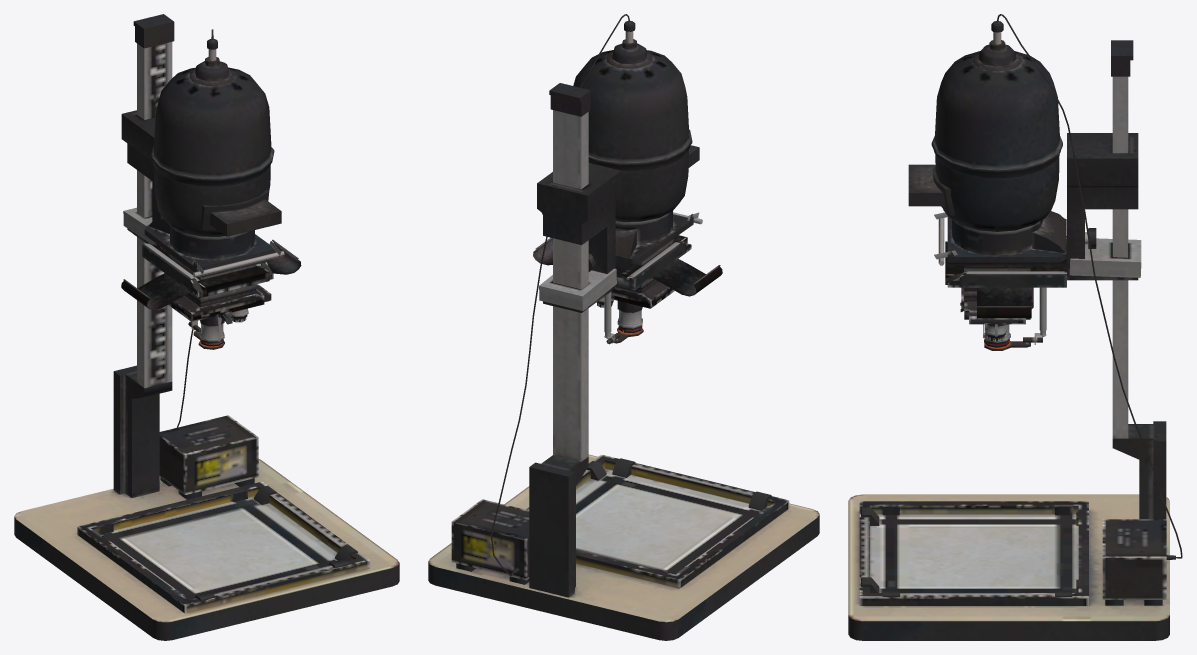
Rendered from 003_filmenlarger01a.fbx.
The picture shows the model from 3 angles, left to right: view 1: azimuth 30°, elevation 25°; view 2: azimuth 150°, elevation 25°; view 3: azimuth 270°, elevation 25°; orthographic projection. The views are drawn at different scales.
Visible parts, largest first — view 1: LOD_1_Group_0_Sub_1__sm32_003_FilmEnlarger01A_A_Mat, LOD_1_Group_22_Sub_1__sm32_003_FilmEnlarger01A_A_Mat, LOD_1_Group_21_Sub_1__sm32_003_FilmEnlarger01A_A_Mat, LOD_1_Group_13_Sub_1__sm32_003_FilmEnlarger01A_A_Mat, LOD_1_Group_1_Sub_1__sm32_003_FilmEnlarger01A_A_Mat, LOD_1_Group_26_Sub_1__sm32_003_FilmEnlarger01A_A_Mat, LOD_1_Group_14_Sub_1__sm32_003_FilmEnlarger01A_A_Mat, LOD_1_Group_27_Sub_1__sm32_003_FilmEnlarger01A_A_Mat, LOD_1_Group_11_Sub_1__sm32_003_FilmEnlarger01A_A_Mat, LOD_1_Group_16_Sub_1__sm32_003_FilmEnlarger01A_A_Mat, LOD_1_Group_28_Sub_1__sm32_003_FilmEnlarger01A_A_Mat, LOD_1_Group_2_Sub_1__sm32_003_FilmEnlarger01A_A_Mat (+4 smaller); view 2: LOD_1_Group_0_Sub_1__sm32_003_FilmEnlarger01A_A_Mat, LOD_1_Group_21_Sub_1__sm32_003_FilmEnlarger01A_A_Mat, LOD_1_Group_22_Sub_1__sm32_003_FilmEnlarger01A_A_Mat, LOD_1_Group_11_Sub_1__sm32_003_FilmEnlarger01A_A_Mat, LOD_1_Group_13_Sub_1__sm32_003_FilmEnlarger01A_A_Mat, LOD_1_Group_1_Sub_1__sm32_003_FilmEnlarger01A_A_Mat, LOD_1_Group_27_Sub_1__sm32_003_FilmEnlarger01A_A_Mat, LOD_1_Group_10_Sub_1__sm32_003_FilmEnlarger01A_A_Mat, LOD_1_Group_26_Sub_1__sm32_003_FilmEnlarger01A_A_Mat, LOD_1_Group_16_Sub_1__sm32_003_FilmEnlarger01A_A_Mat, LOD_1_Group_3_Sub_1__sm32_003_FilmEnlarger01A_A_Mat, LOD_1_Group_28_Sub_1__sm32_003_FilmEnlarger01A_A_Mat (+3 smaller); view 3: LOD_1_Group_0_Sub_1__sm32_003_FilmEnlarger01A_A_Mat, LOD_1_Group_22_Sub_1__sm32_003_FilmEnlarger01A_A_Mat, LOD_1_Group_21_Sub_1__sm32_003_FilmEnlarger01A_A_Mat, LOD_1_Group_13_Sub_1__sm32_003_FilmEnlarger01A_A_Mat, LOD_1_Group_11_Sub_1__sm32_003_FilmEnlarger01A_A_Mat, LOD_1_Group_1_Sub_1__sm32_003_FilmEnlarger01A_A_Mat, LOD_1_Group_26_Sub_1__sm32_003_FilmEnlarger01A_A_Mat, LOD_1_Group_10_Sub_1__sm32_003_FilmEnlarger01A_A_Mat, LOD_1_Group_16_Sub_1__sm32_003_FilmEnlarger01A_A_Mat, LOD_1_Group_27_Sub_1__sm32_003_FilmEnlarger01A_A_Mat, LOD_1_Group_14_Sub_1__sm32_003_FilmEnlarger01A_A_Mat, LOD_1_Group_9_Sub_1__sm32_003_FilmEnlarger01A_A_Mat (+4 smaller).
Boxes of the visible parts, x1,y1,x2,y2 form: LOD_1_Group_0_Sub_1__sm32_003_FilmEnlarger01A_A_Mat: (14,459,399,640); LOD_1_Group_22_Sub_1__sm32_003_FilmEnlarger01A_A_Mat: (148,67,274,259); LOD_1_Group_21_Sub_1__sm32_003_FilmEnlarger01A_A_Mat: (113,14,174,497); LOD_1_Group_13_Sub_1__sm32_003_FilmEnlarger01A_A_Mat: (77,481,369,613); LOD_1_Group_1_Sub_1__sm32_003_FilmEnlarger01A_A_Mat: (159,415,258,494); LOD_1_Group_26_Sub_1__sm32_003_FilmEnlarger01A_A_Mat: (142,243,273,297); LOD_1_Group_14_Sub_1__sm32_003_FilmEnlarger01A_A_Mat: (200,189,281,236); LOD_1_Group_27_Sub_1__sm32_003_FilmEnlarger01A_A_Mat: (121,239,301,310); LOD_1_Group_11_Sub_1__sm32_003_FilmEnlarger01A_A_Mat: (121,110,163,244); LOD_1_Group_16_Sub_1__sm32_003_FilmEnlarger01A_A_Mat: (144,225,275,277); LOD_1_Group_28_Sub_1__sm32_003_FilmEnlarger01A_A_Mat: (168,284,271,321); LOD_1_Group_2_Sub_1__sm32_003_FilmEnlarger01A_A_Mat: (169,253,256,306); LOD_1_Group_0_Sub_1__sm32_003_FilmEnlarger01A_A_Mat: (428,454,819,640); LOD_1_Group_21_Sub_1__sm32_003_FilmEnlarger01A_A_Mat: (529,83,590,597); LOD_1_Group_22_Sub_1__sm32_003_FilmEnlarger01A_A_Mat: (573,50,692,258); LOD_1_Group_11_Sub_1__sm32_003_FilmEnlarger01A_A_Mat: (537,163,621,312); LOD_1_Group_13_Sub_1__sm32_003_FilmEnlarger01A_A_Mat: (526,454,789,588); LOD_1_Group_1_Sub_1__sm32_003_FilmEnlarger01A_A_Mat: (451,499,529,580); LOD_1_Group_27_Sub_1__sm32_003_FilmEnlarger01A_A_Mat: (533,237,722,296); LOD_1_Group_10_Sub_1__sm32_003_FilmEnlarger01A_A_Mat: (539,268,616,310); LOD_1_Group_26_Sub_1__sm32_003_FilmEnlarger01A_A_Mat: (615,235,691,290); LOD_1_Group_16_Sub_1__sm32_003_FilmEnlarger01A_A_Mat: (615,214,693,269); LOD_1_Group_3_Sub_1__sm32_003_FilmEnlarger01A_A_Mat: (606,39,652,68); LOD_1_Group_28_Sub_1__sm32_003_FilmEnlarger01A_A_Mat: (611,281,674,308); LOD_1_Group_0_Sub_1__sm32_003_FilmEnlarger01A_A_Mat: (848,494,1169,640); LOD_1_Group_22_Sub_1__sm32_003_FilmEnlarger01A_A_Mat: (931,51,1065,255); LOD_1_Group_21_Sub_1__sm32_003_FilmEnlarger01A_A_Mat: (1111,40,1166,519); LOD_1_Group_13_Sub_1__sm32_003_FilmEnlarger01A_A_Mat: (859,501,1088,605); LOD_1_Group_11_Sub_1__sm32_003_FilmEnlarger01A_A_Mat: (1067,133,1138,280); LOD_1_Group_1_Sub_1__sm32_003_FilmEnlarger01A_A_Mat: (1102,519,1166,599); LOD_1_Group_26_Sub_1__sm32_003_FilmEnlarger01A_A_Mat: (945,236,1066,287); LOD_1_Group_10_Sub_1__sm32_003_FilmEnlarger01A_A_Mat: (1069,238,1141,277); LOD_1_Group_16_Sub_1__sm32_003_FilmEnlarger01A_A_Mat: (947,217,1066,265); LOD_1_Group_27_Sub_1__sm32_003_FilmEnlarger01A_A_Mat: (977,287,1031,318); LOD_1_Group_14_Sub_1__sm32_003_FilmEnlarger01A_A_Mat: (908,164,954,215); LOD_1_Group_9_Sub_1__sm32_003_FilmEnlarger01A_A_Mat: (997,14,1182,558).
Bounding box in the file's own units: 0.4057 × 0.8405 × 0.451.
